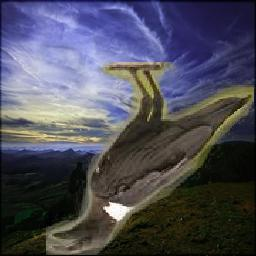Crow: (46, 63, 254, 256)
